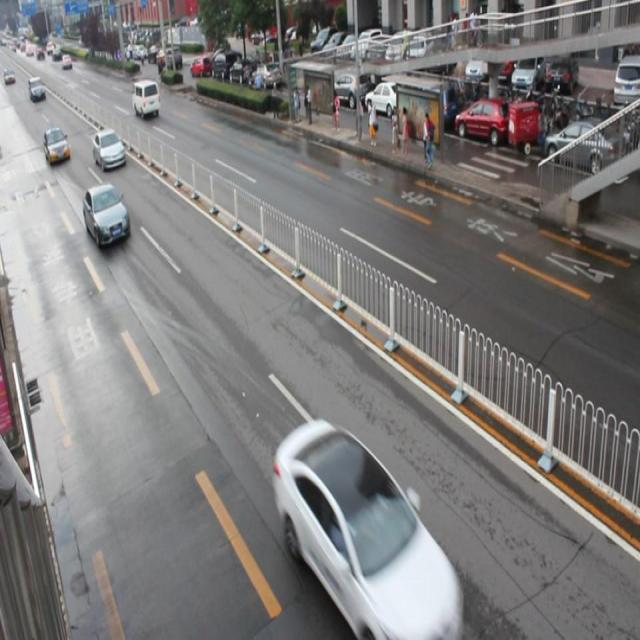car: (272, 417, 462, 640), (84, 182, 130, 248), (92, 127, 126, 170), (42, 126, 70, 167)
truck: (133, 79, 160, 119)
